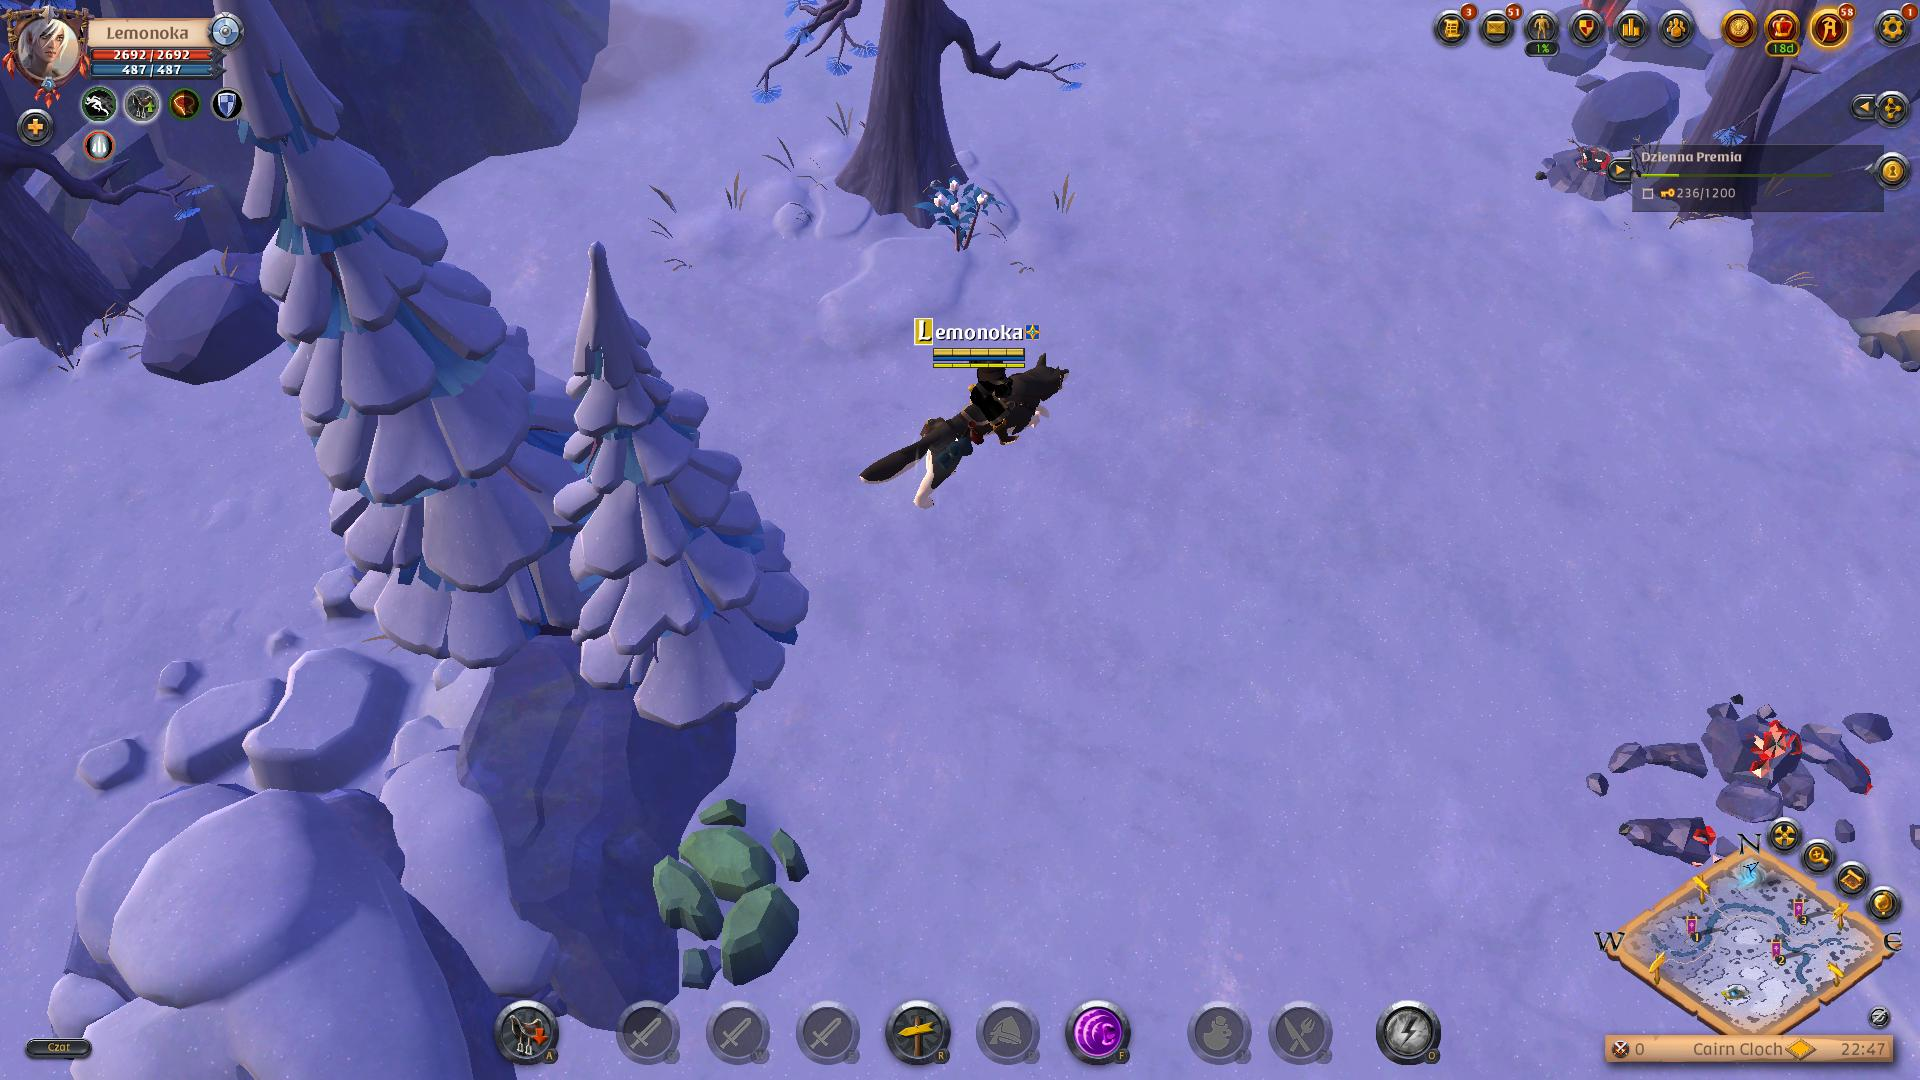fiber tier 4: (920, 173, 1002, 252)
rock tier 3: (657, 793, 799, 984)
